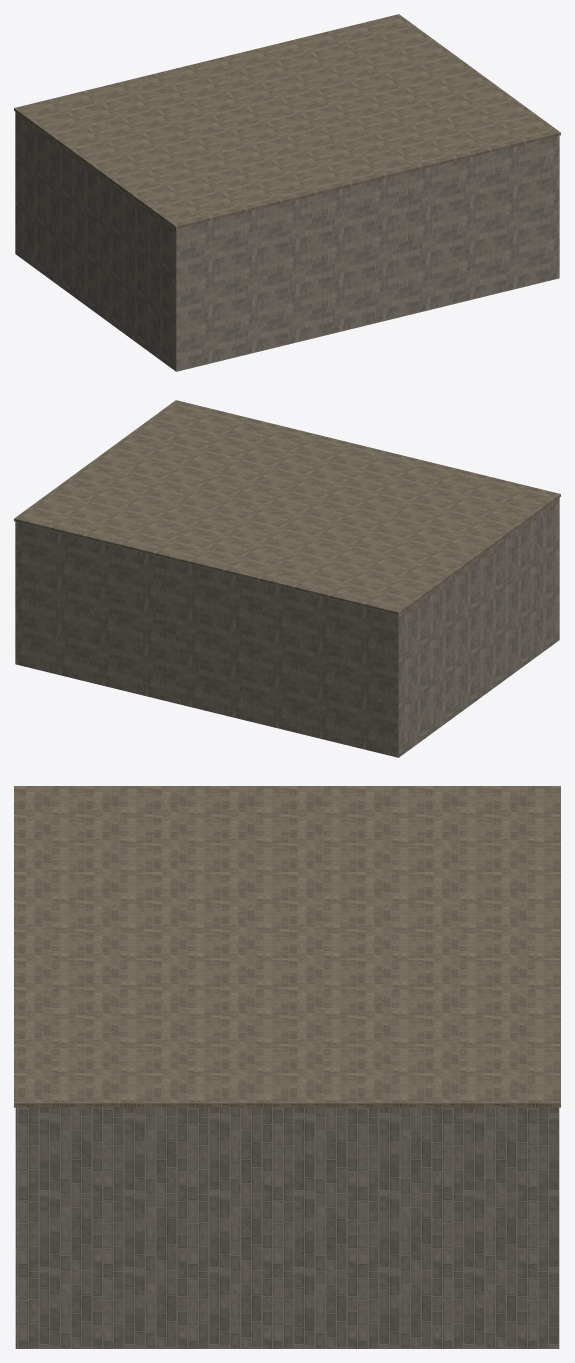
File: SM_Art_Masonry_2200x1600x800.gltf
3 renders of one model, top to bottom at view 1: azimuth 30°, elevation 25°; view 2: azimuth 150°, elevation 25°; view 3: azimuth 270°, elevation 25°, orthographic. The views are drawn at different scales.
Visible parts, largest first — view 1: SM_Art_Masonry_2200x1600x800; view 2: SM_Art_Masonry_2200x1600x800; view 3: SM_Art_Masonry_2200x1600x800.
Boxes of the visible parts, <box> form: SM_Art_Masonry_2200x1600x800: <box>14,14,560,371</box>; SM_Art_Masonry_2200x1600x800: <box>14,400,560,757</box>; SM_Art_Masonry_2200x1600x800: <box>14,786,560,1348</box>.
Bounding box in the file's own units: 22.1 × 8 × 16.1.
2 materials, 2 textured.
